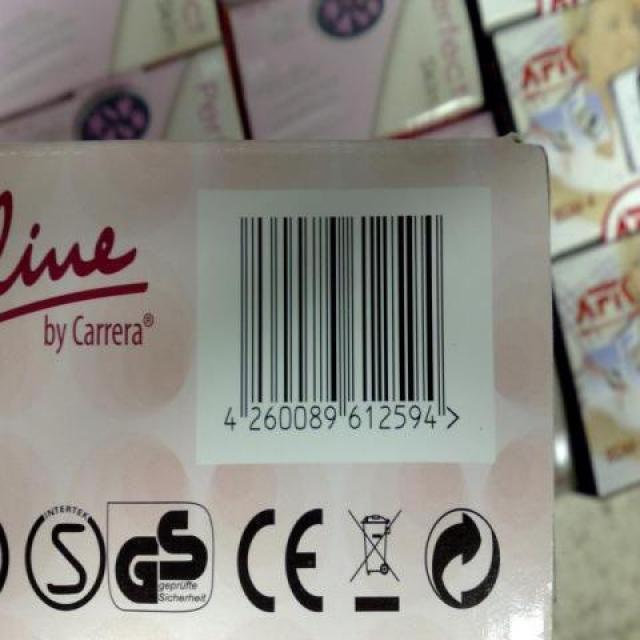Barcode: (205, 198, 480, 450)
